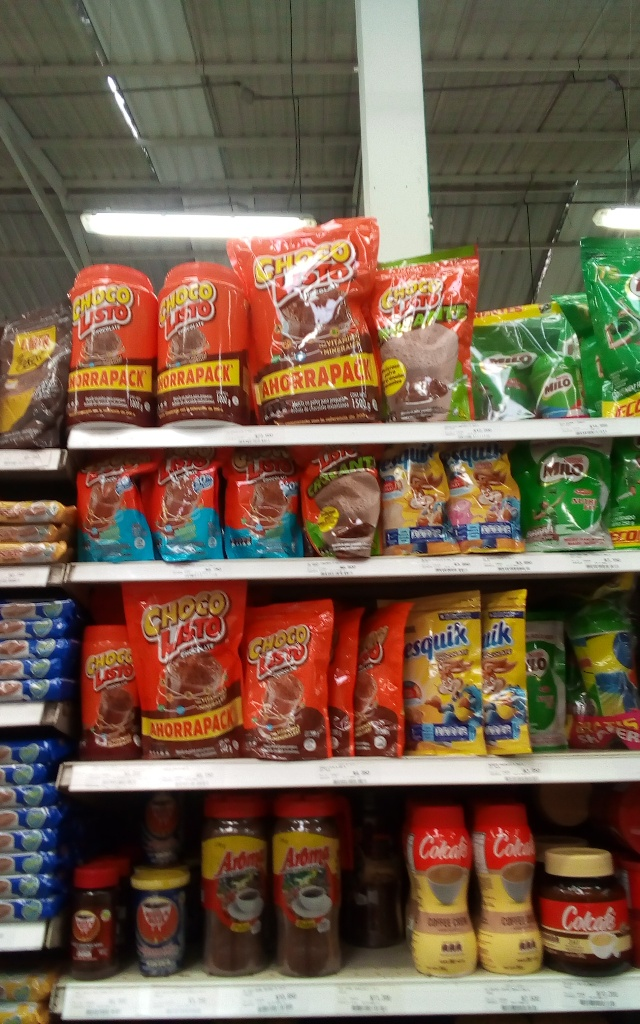COL0170102DYP25000: (300, 443, 386, 559)
COL0170103DYP1,500: (228, 225, 389, 425)
COL0170103DYP20000: (240, 597, 337, 759)
COL0170103DYP36000: (122, 578, 251, 761)
COL0170103TRR00100: (157, 263, 252, 428)
COL0170103TRR30000: (78, 621, 147, 762)
COL0170104DYP20000: (70, 451, 159, 563)
COL0170203DYP50000: (472, 318, 544, 421)
COL0170205DYP20000: (516, 441, 616, 555)
COL0170303DYP20000: (402, 589, 492, 763)
COL0170305DYP20000: (445, 443, 524, 553)
COL0170306DYP20000: (375, 444, 458, 555)
